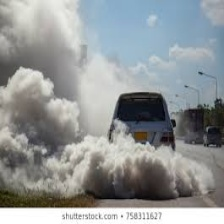smoke: (5, 9, 86, 190), (91, 143, 211, 201)
